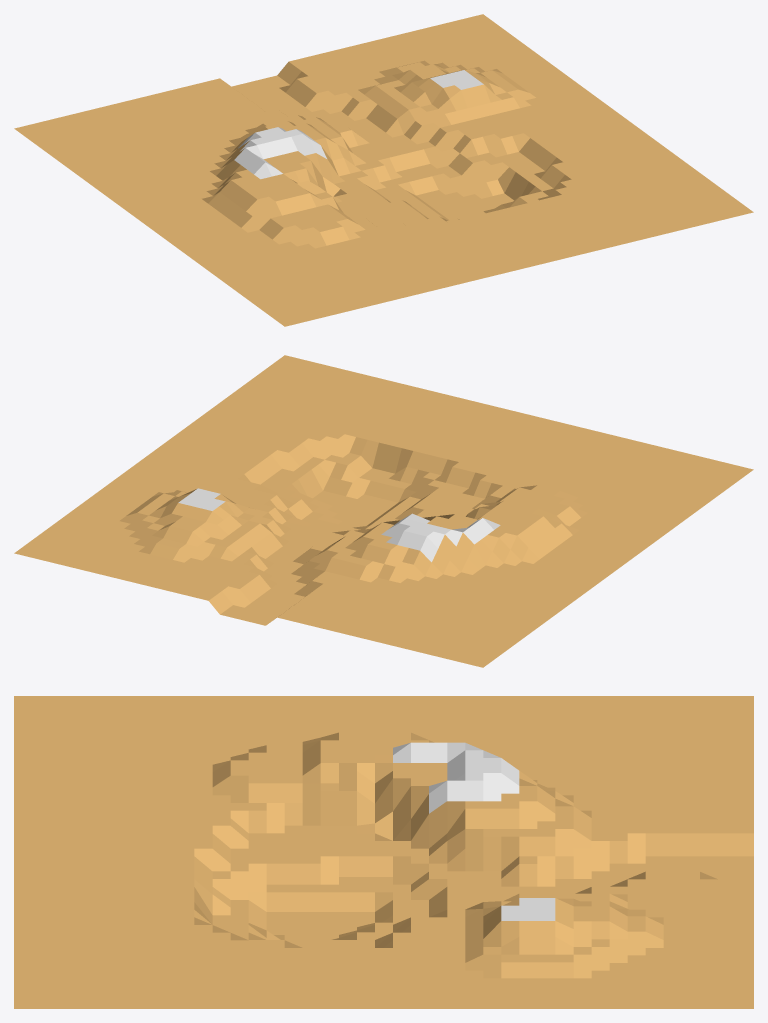
Rendered from TerrainSample2.fbx.
The picture shows the model from 3 angles, top to bottom: view 1: azimuth 30°, elevation 25°; view 2: azimuth 150°, elevation 25°; view 3: azimuth 270°, elevation 25°; orthographic projection. The views are drawn at different scales.
Visible parts, largest first — view 1: Plane; view 2: Plane; view 3: Plane.
Boxes of the visible parts, x1,y1,x2,y2 form: Plane: (14, 14, 753, 326); Plane: (14, 355, 753, 667); Plane: (14, 696, 753, 1008).
Size of the model in its own units: 40000 by 4644 by 40000.
